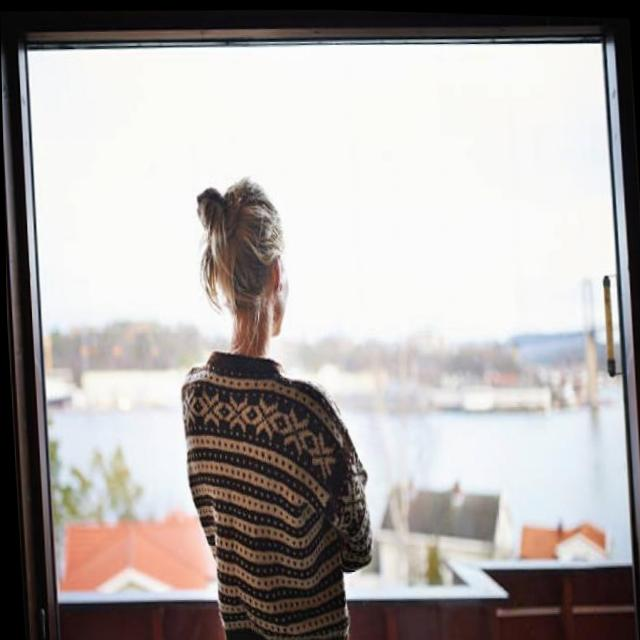no helmet: (185, 174, 321, 427)
